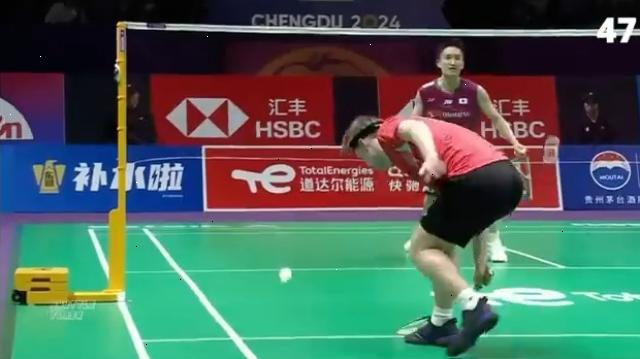Shuttlecock: (272, 266, 296, 286)
